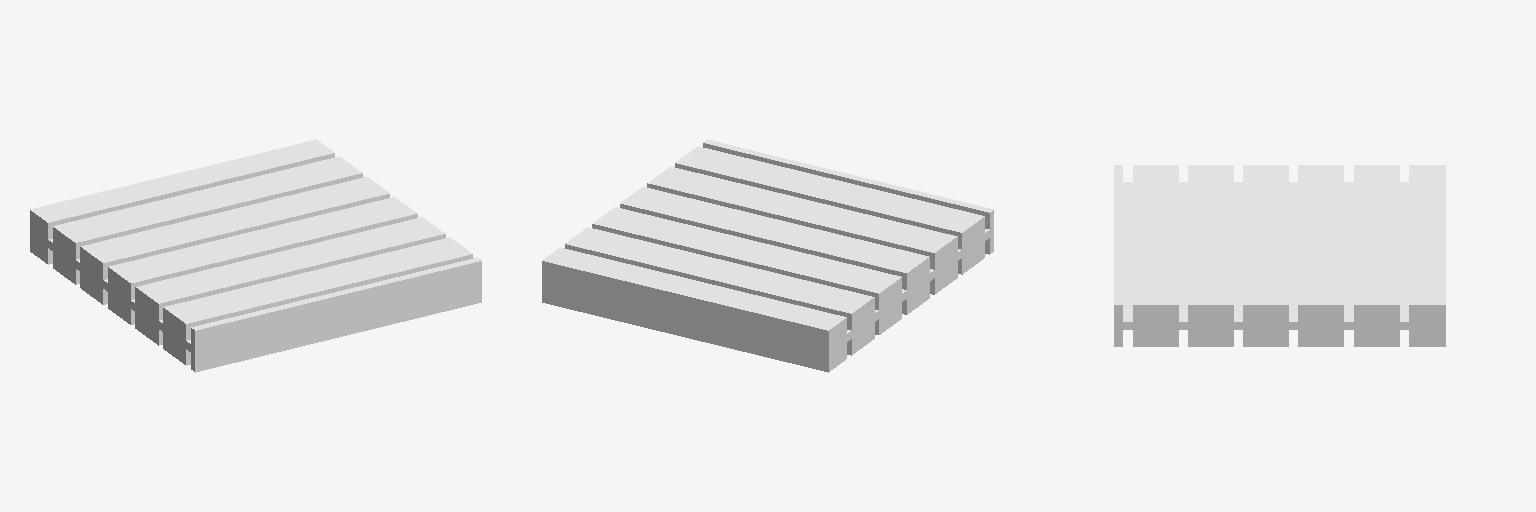
File: Boardwalk.obj
3 views of the same model, side by side, from view 1: azimuth 30°, elevation 25°; view 2: azimuth 150°, elevation 25°; view 3: azimuth 270°, elevation 25° (orthographic).
Visible parts, largest first — view 1: Boardwalk; view 2: Boardwalk; view 3: Boardwalk.
Part boxes in pixels (x1,y1,x2,y2): Boardwalk: (30, 139, 481, 372); Boardwalk: (542, 139, 993, 372); Boardwalk: (1114, 165, 1445, 346).
Bounding box in the file's own units: 36 × 5 × 36.